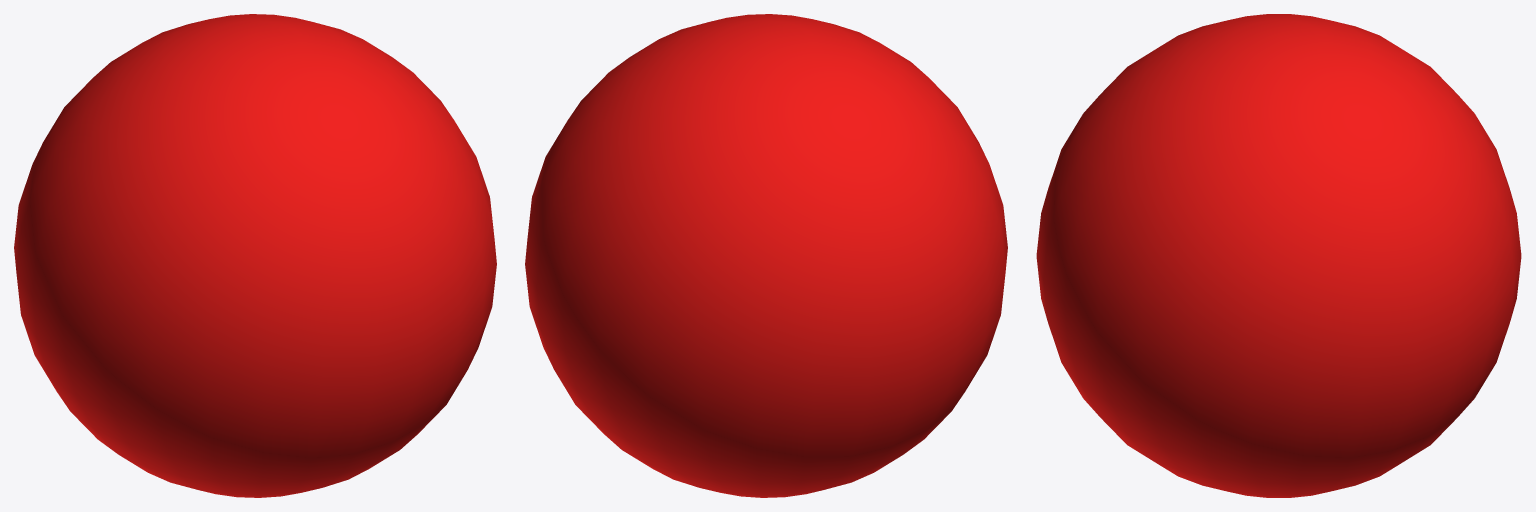
File: than.fbx
3 views of the same model, side by side, from view 1: azimuth 30°, elevation 25°; view 2: azimuth 150°, elevation 25°; view 3: azimuth 270°, elevation 25° (orthographic).
Parts seen in each view (by area): view 1: than; view 2: than; view 3: than.
Boxes of the visible parts, x1,y1,x2,y2 form: than: (14,14,496,497); than: (525,14,1007,497); than: (1036,14,1521,497).
Bounding box in the file's own units: 49.64 × 50 × 50.
